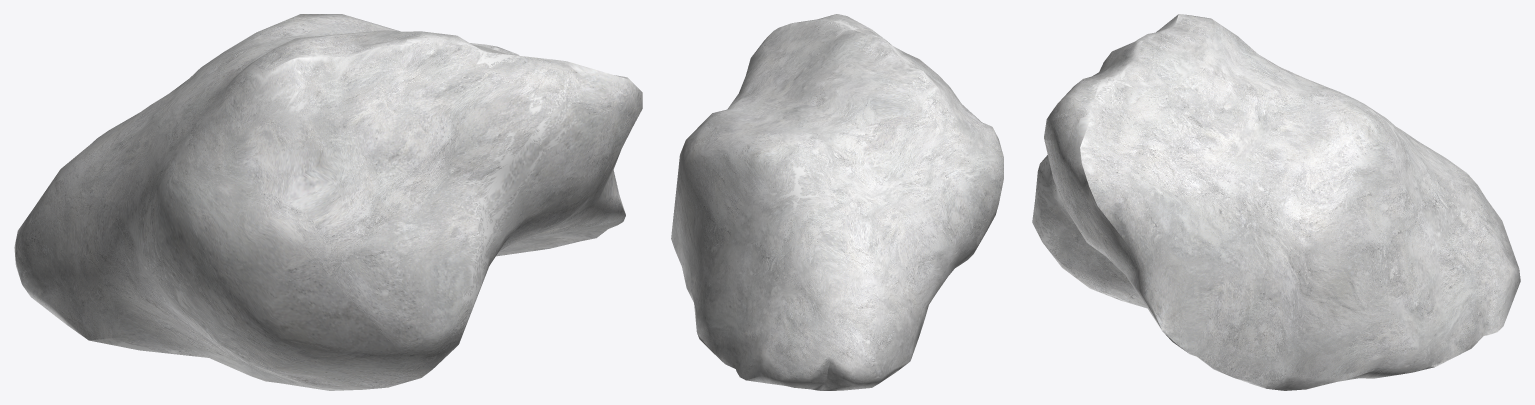
The model's file is rock_00F.fbx.
3 views of the same model, side by side, from view 1: azimuth 30°, elevation 25°; view 2: azimuth 150°, elevation 25°; view 3: azimuth 270°, elevation 25° (orthographic). The views are drawn at different scales.
Visible parts, largest first — view 1: rock_00F; view 2: rock_00F; view 3: rock_00F.
Boxes of the visible parts, x1,y1,x2,y2 form: rock_00F: [14, 14, 642, 390]; rock_00F: [671, 14, 1003, 390]; rock_00F: [1032, 14, 1520, 390].
Size of the model in its own units: 175 by 137 by 205.
